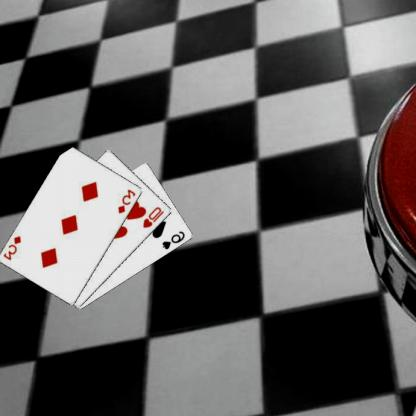10H: (142, 204, 167, 229)
3D: (117, 186, 139, 215), (3, 232, 24, 262)
6S: (162, 228, 188, 251)
